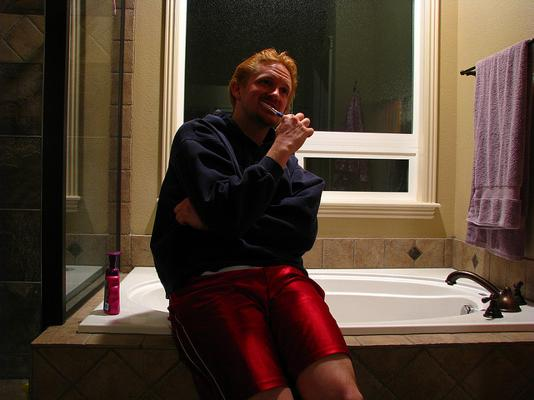person: (151, 48, 365, 400)
